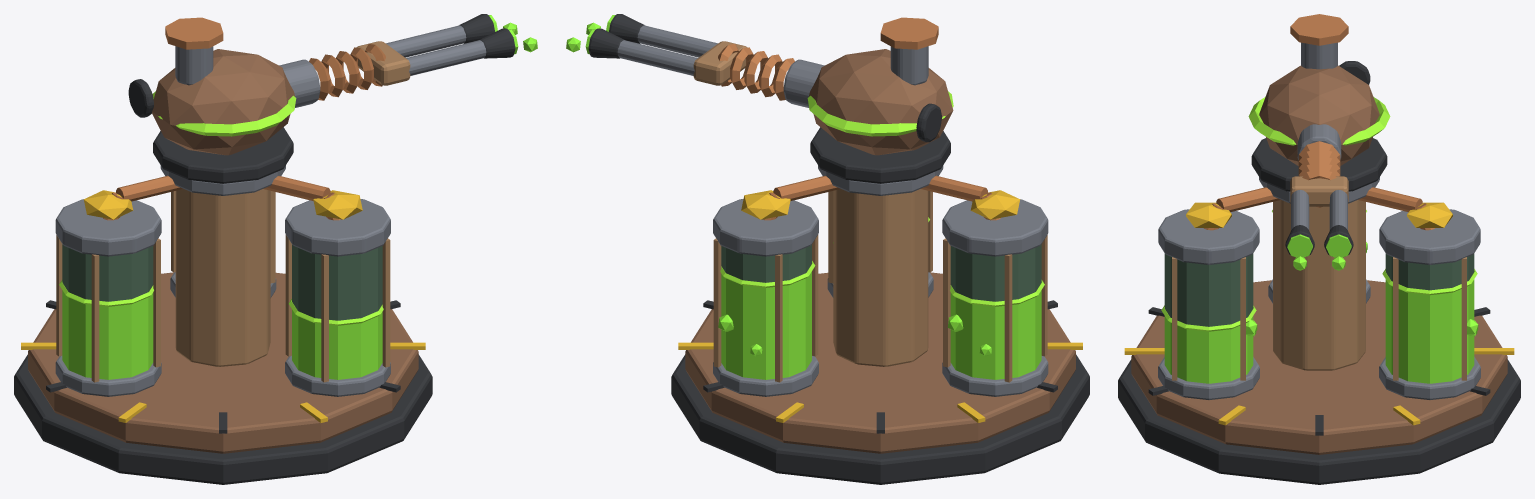
Rendered from torreta_acido.glb.
3 views of the same model, side by side, from view 1: azimuth 30°, elevation 25°; view 2: azimuth 150°, elevation 25°; view 3: azimuth 270°, elevation 25° (orthographic). The views are drawn at different scales.
Visible parts, largest first — view 1: Base, Pivot, Barrel; view 2: Base, Pivot, Barrel; view 3: Base, Pivot, Barrel.
Part boxes in pixels (left/top/right/bottom): Base: left=14, top=165, right=432, bottom=484; Pivot: left=128, top=17, right=296, bottom=183; Barrel: left=279, top=14, right=537, bottom=107; Base: left=671, top=165, right=1089, bottom=484; Pivot: left=807, top=17, right=953, bottom=183; Barrel: left=566, top=14, right=824, bottom=107; Base: left=1118, top=177, right=1520, bottom=484; Pivot: left=1248, top=14, right=1390, bottom=191; Barrel: left=1285, top=124, right=1353, bottom=270.
Bounding box in the file's own units: 4.01 × 2.97 × 3.
1 material, 1 textured.
